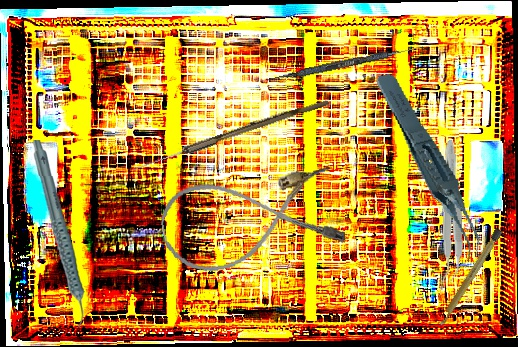Cannula: (155, 161, 348, 279)
Handpiece: (30, 139, 86, 328)
Scalpel Handle: (435, 227, 504, 329)
Spatula Surgical: (265, 40, 428, 87)
Surgical Spoon: (131, 94, 330, 176)
Tissue Forceps: (374, 62, 484, 274), (436, 140, 464, 283)
